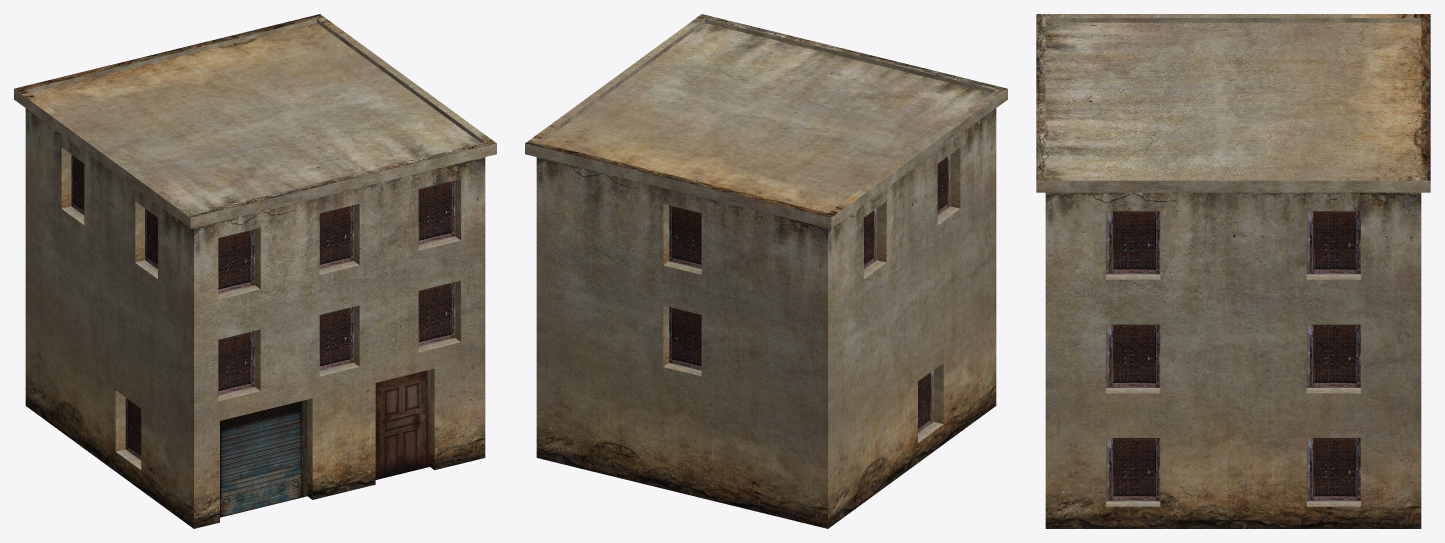
Rendered from BuildingJ.fbx.
3 views of the same model, side by side, from view 1: azimuth 30°, elevation 25°; view 2: azimuth 150°, elevation 25°; view 3: azimuth 270°, elevation 25° (orthographic). The views are drawn at different scales.
Parts seen in each view (by area): view 1: BuildingJ; view 2: BuildingJ; view 3: BuildingJ.
Boxes of the visible parts, x1,y1,x2,y2 form: BuildingJ: (14, 14, 496, 528); BuildingJ: (525, 14, 1007, 528); BuildingJ: (1036, 14, 1430, 528).
Size of the model in its own units: 752 by 742 by 752.
